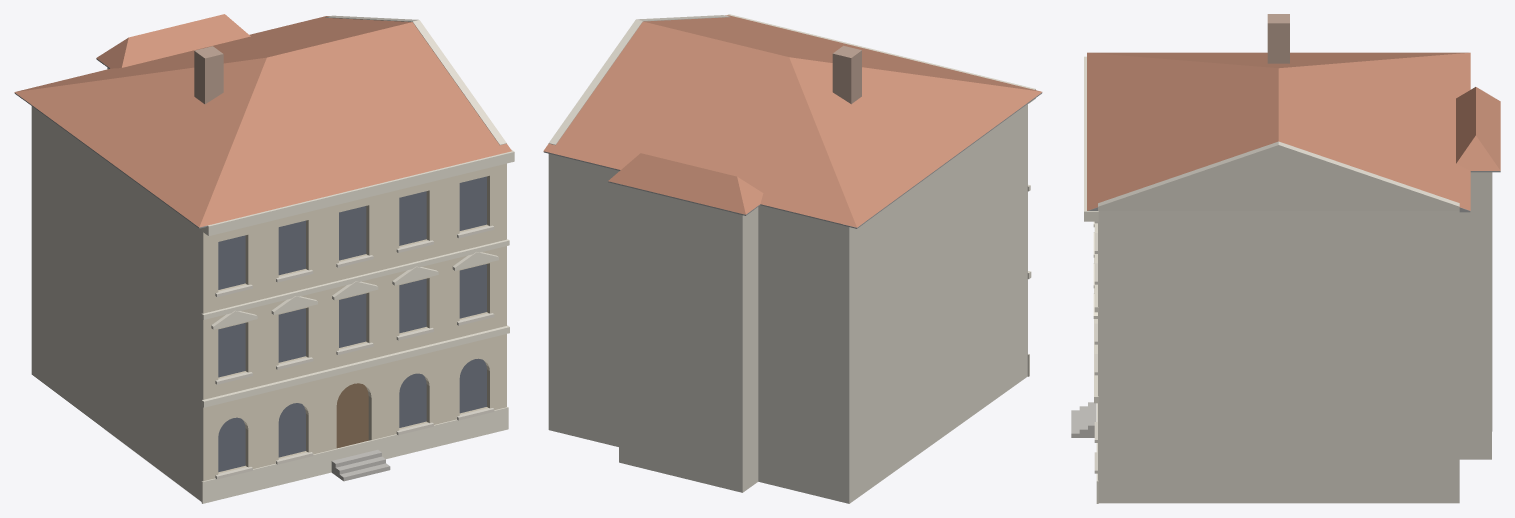
3 views of the same model, side by side, from view 1: azimuth 30°, elevation 25°; view 2: azimuth 150°, elevation 25°; view 3: azimuth 270°, elevation 25° (orthographic). The views are drawn at different scales.
Parts seen in each view (by area): view 1: CP_1019_Masonry, CP_1019_Roof, CP_1019_Cornice_main_plinth_0, CP_1019_WingRoof_rear_jog, CP_1019_Cornice_main_eave_0, CP_1019_Cornice_main_string1_0, CP_1019_Cornice_main_string2_0, CP_1019_Chimney_0, CP_1019_Roof_Gable_R_gable; view 2: CP_1019_Masonry, CP_1019_Roof, CP_1019_WingRoof_rear_jog, CP_1019_Chimney_0, CP_1019_Roof_Gable_R_gable, CP_1019_Cornice_main_eave_0; view 3: CP_1019_Masonry, CP_1019_Roof, CP_1019_Roof_Gable_R_gable, CP_1019_WingRoof_rear_jog, CP_1019_Chimney_0, CP_1019_Cornice_main_eave_0.
Part boxes in pixels (box(x1,y1,x2,y2)): CP_1019_Masonry: box(31, 67, 506, 501); CP_1019_Roof: box(14, 16, 511, 227); CP_1019_Cornice_main_plinth_0: box(201, 407, 508, 503); CP_1019_WingRoof_rear_jog: box(96, 14, 250, 68); CP_1019_Cornice_main_eave_0: box(201, 149, 514, 235); CP_1019_Cornice_main_string1_0: box(201, 325, 509, 407); CP_1019_Cornice_main_string2_0: box(201, 239, 509, 319); CP_1019_Chimney_0: box(194, 46, 223, 104); CP_1019_Roof_Gable_R_gable: box(325, 15, 506, 145); CP_1019_Masonry: box(548, 104, 1027, 503); CP_1019_Roof: box(543, 15, 1041, 227); CP_1019_WingRoof_rear_jog: box(608, 153, 763, 214); CP_1019_Chimney_0: box(832, 45, 861, 104); CP_1019_Roof_Gable_R_gable: box(548, 15, 729, 145); CP_1019_Cornice_main_eave_0: box(727, 14, 1035, 103); CP_1019_Masonry: box(1098, 172, 1492, 503); CP_1019_Roof: box(1087, 52, 1470, 210); CP_1019_Roof_Gable_R_gable: box(1098, 141, 1459, 210); CP_1019_WingRoof_rear_jog: box(1456, 87, 1500, 170); CP_1019_Chimney_0: box(1267, 14, 1289, 63); CP_1019_Cornice_main_eave_0: box(1084, 56, 1098, 221).
Bounding box in the file's own units: 13.53 × 15 × 15.44.
